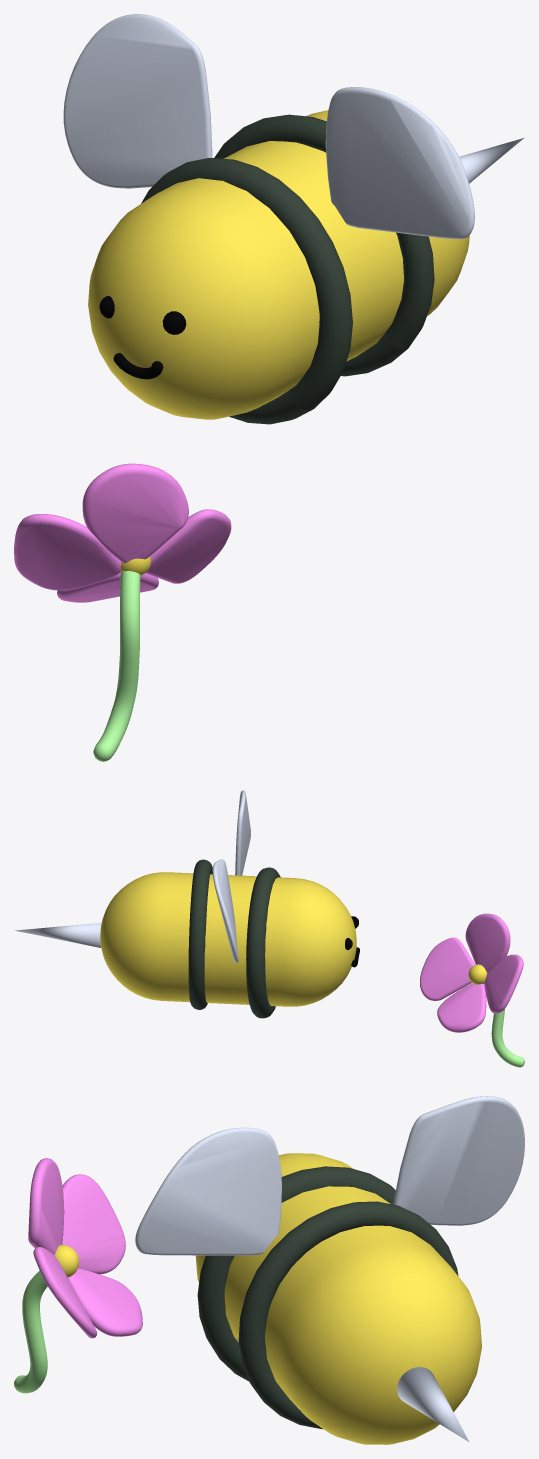
Rendered from honeybee.glb.
The picture shows the model from 3 angles, top to bottom: view 1: azimuth 30°, elevation 25°; view 2: azimuth 150°, elevation 25°; view 3: azimuth 270°, elevation 25°; orthographic projection. The views are drawn at different scales.
Parts seen in each view (by area): view 1: bee; view 2: bee; view 3: bee.
Boxes of the visible parts, x1,y1,x2,y2 form: bee: [14, 14, 524, 761]; bee: [14, 790, 524, 1067]; bee: [14, 1096, 524, 1444].
Size of the model in its own units: 8.35 by 5.42 by 5.84.
